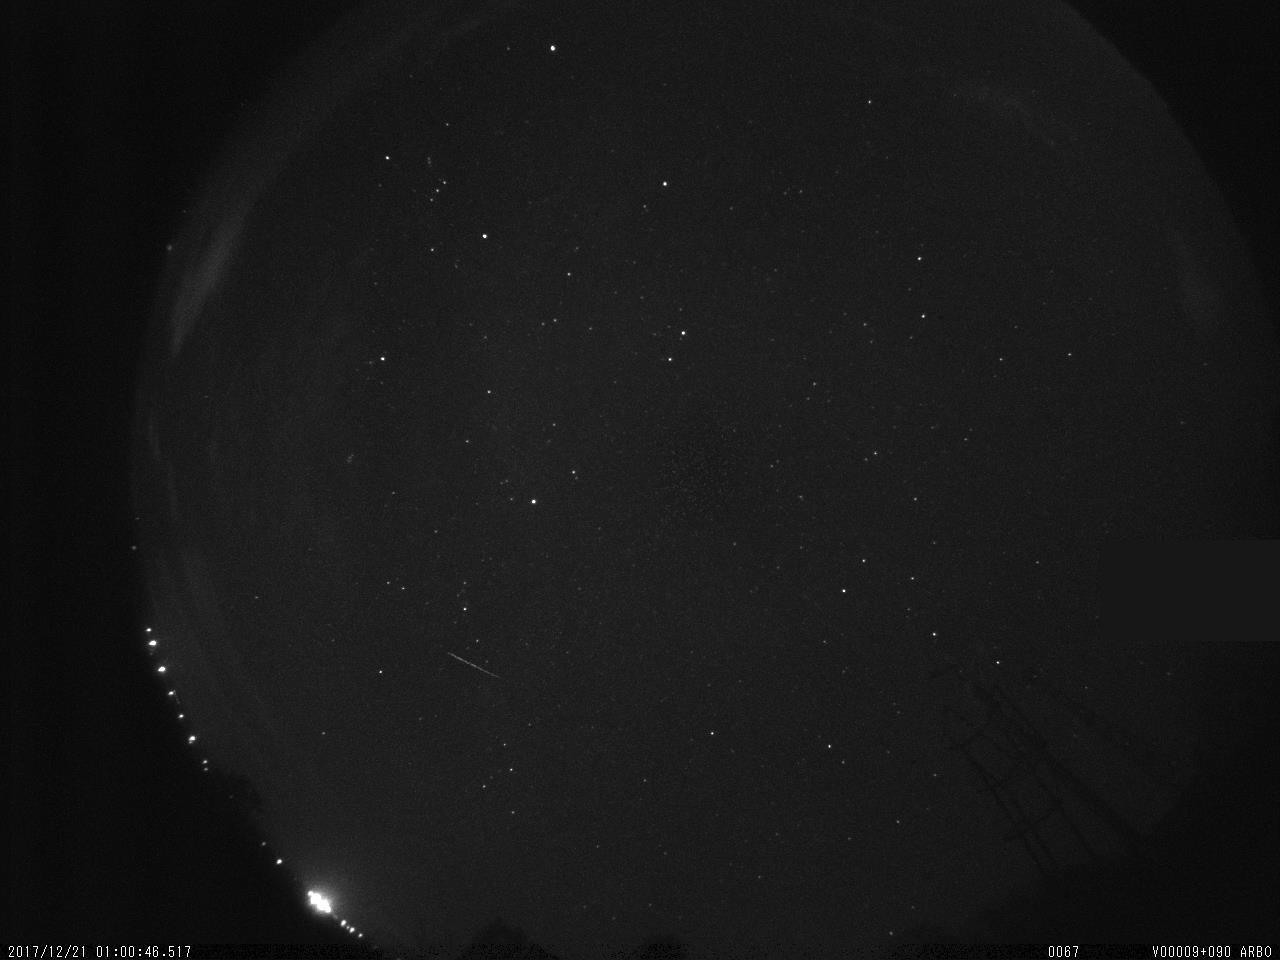meteor: (398, 630, 523, 700)
